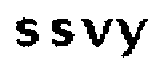s: (47, 17, 75, 48), (13, 17, 40, 48)
v: (79, 17, 113, 48)
y: (115, 16, 148, 60)
